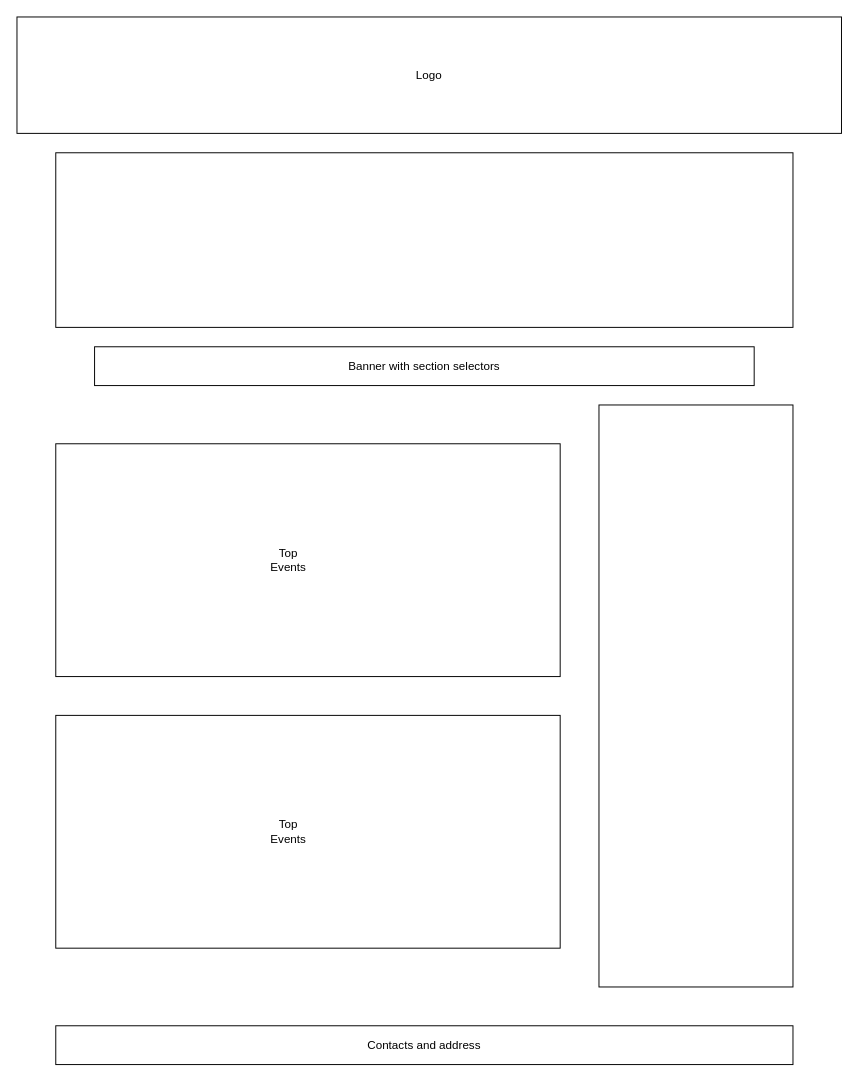
The diagram is 858 pixels wide and 1082 high, and some of its shapes have lost their labels. The shapes that lost their labels are listed below. From the top down, each one's centre as x and y in pixels, then its label:
(424,239): Store Picture
(695,695): Social Feed
